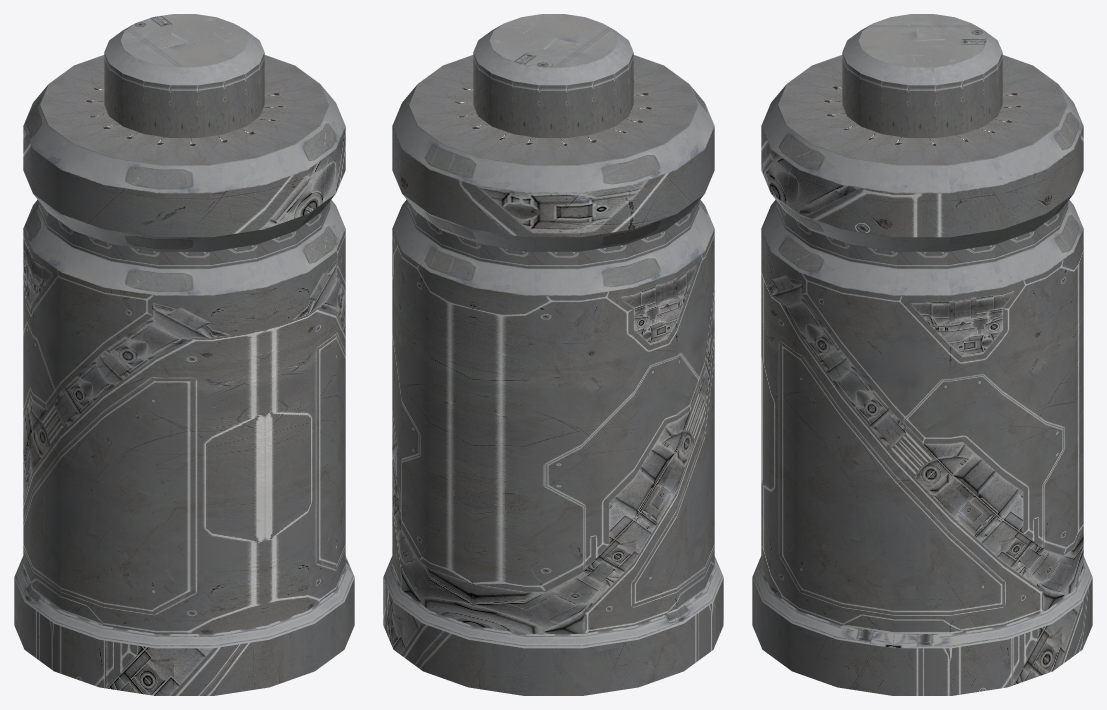
Rendered from SM_CrateCyl3.fbx.
3 renders of one model, left to right at view 1: azimuth 30°, elevation 25°; view 2: azimuth 150°, elevation 25°; view 3: azimuth 270°, elevation 25°, orthographic.
Visible parts, largest first — view 1: SM_CrateCyl3_LOD0; view 2: SM_CrateCyl3_LOD0; view 3: SM_CrateCyl3_LOD0.
Part boxes in pixels (bbox=[...]): SM_CrateCyl3_LOD0: bbox=[14, 14, 354, 695]; SM_CrateCyl3_LOD0: bbox=[383, 14, 723, 695]; SM_CrateCyl3_LOD0: bbox=[752, 14, 1092, 695].
Bounding box in the file's own units: 52.01 × 52.81 × 100.
3 materials, 3 textured.
